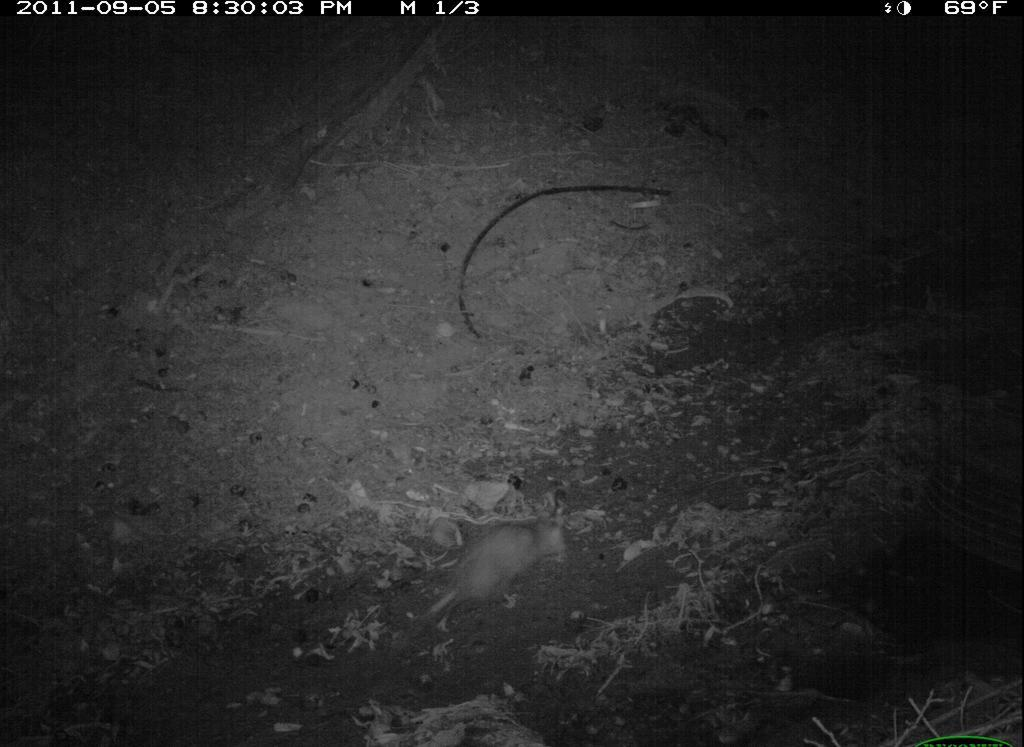opossum: (410, 493, 591, 634)
